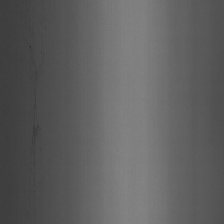water_spot: (26, 43, 43, 163)
